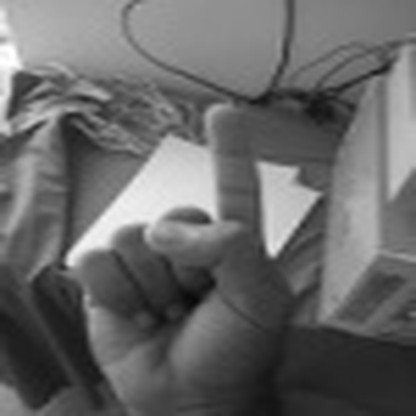d: (72, 99, 290, 413)
